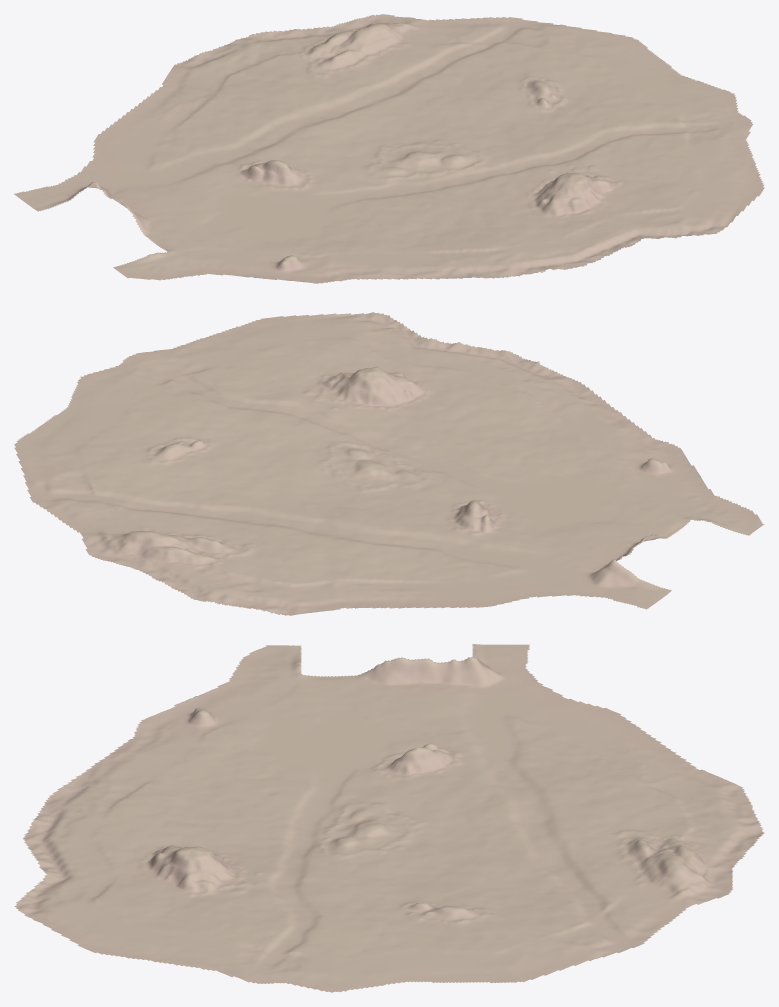
The model's file is BermsExpanseGround.glb.
3 renders of one model, top to bottom at view 1: azimuth 30°, elevation 25°; view 2: azimuth 150°, elevation 25°; view 3: azimuth 270°, elevation 25°, orthographic. The views are drawn at different scales.
Parts seen in each view (by area): view 1: Ground_2_6_LOD0, Ground_3_4_LOD0, Ground_3_6_LOD0, Ground_3_1_LOD0, Ground_2_3_LOD0, Ground_2_2_LOD0, Ground_3_2_LOD0, Ground_4_2_LOD0, Ground_4_3_LOD0, Ground_4_6_LOD0, Ground_5_2_LOD0, Ground_3_5_LOD0 (+38 smaller); view 2: Ground_3_5_LOD0, Ground_4_1_LOD0, Ground_3_1_LOD0, Ground_2_5_LOD0, Ground_1_2_LOD0, Ground_2_4_LOD0, Ground_3_3_LOD0, Ground_4_5_LOD0, Ground_5_5_LOD0, Ground_2_3_LOD0, Ground_2_2_LOD0, Ground_5_3_LOD0 (+38 smaller); view 3: Ground_2_5_LOD0, Ground_2_1_LOD0, Ground_6_3_LOD0, Ground_6_4_LOD0, Ground_5_4_LOD0, Ground_5_5_LOD0, Ground_4_3_LOD0, Ground_3_2_LOD0, Ground_1_5_LOD0, Ground_1_3_LOD0, Ground_4_4_LOD0, Ground_1_4_LOD0 (+39 smaller).
Part boxes in pixels (x1=…): Ground_2_6_LOD0: x1=571, y1=184, x2=696, y2=240; Ground_3_4_LOD0: x1=398, y1=138, x2=523, y2=194; Ground_3_6_LOD0: x1=491, y1=196, x2=616, y2=259; Ground_3_1_LOD0: x1=259, y1=32, x2=384, y2=89; Ground_2_3_LOD0: x1=432, y1=82, x2=557, y2=138; Ground_2_2_LOD0: x1=386, y1=49, x2=511, y2=104; Ground_3_2_LOD0: x1=305, y1=70, x2=431, y2=125; Ground_4_2_LOD0: x1=226, y1=90, x2=351, y2=145; Ground_4_3_LOD0: x1=272, y1=125, x2=397, y2=180; Ground_4_6_LOD0: x1=410, y1=227, x2=536, y2=278; Ground_5_2_LOD0: x1=145, y1=112, x2=271, y2=167; Ground_3_5_LOD0: x1=444, y1=172, x2=569, y2=226; Ground_3_5_LOD0: x1=348, y1=375, x2=477, y2=443; Ground_4_1_LOD0: x1=240, y1=545, x2=369, y2=605; Ground_3_1_LOD0: x1=157, y1=524, x2=286, y2=582; Ground_2_5_LOD0: x1=266, y1=363, x2=392, y2=420; Ground_1_2_LOD0: x1=40, y1=446, x2=169, y2=503; Ground_2_4_LOD0: x1=218, y1=398, x2=347, y2=455; Ground_3_3_LOD0: x1=253, y1=456, x2=382, y2=511; Ground_4_5_LOD0: x1=431, y1=407, x2=559, y2=464; Ground_5_5_LOD0: x1=513, y1=429, x2=642, y2=485; Ground_2_3_LOD0: x1=170, y1=433, x2=299, y2=490; Ground_2_2_LOD0: x1=123, y1=468, x2=251, y2=524; Ground_5_3_LOD0: x1=418, y1=500, x2=547, y2=555; Ground_2_5_LOD0: x1=169, y1=846, x2=275, y2=906; Ground_2_1_LOD0: x1=595, y1=853, x2=701, y2=907; Ground_6_3_LOD0: x1=382, y1=688, x2=488, y2=734; Ground_6_4_LOD0: x1=275, y1=688, x2=381, y2=734; Ground_5_4_LOD0: x1=275, y1=734, x2=381, y2=779; Ground_5_5_LOD0: x1=169, y1=733, x2=275, y2=778; Ground_4_3_LOD0: x1=382, y1=776, x2=488, y2=822; Ground_3_2_LOD0: x1=488, y1=819, x2=594, y2=866; Ground_1_5_LOD0: x1=169, y1=906, x2=275, y2=951; Ground_1_3_LOD0: x1=382, y1=902, x2=488, y2=950; Ground_4_4_LOD0: x1=275, y1=778, x2=381, y2=824; Ground_1_4_LOD0: x1=275, y1=906, x2=381, y2=951.
Size of what is drawn, in the model's own units: 508 by 18.68 by 451.
